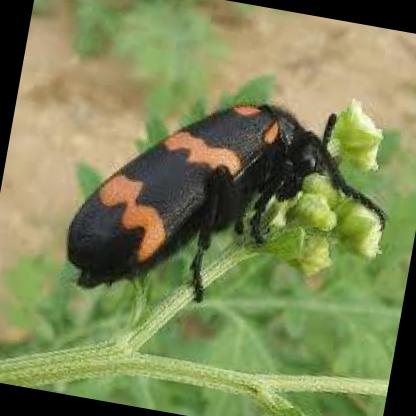blister beetle: (63, 98, 388, 301)
